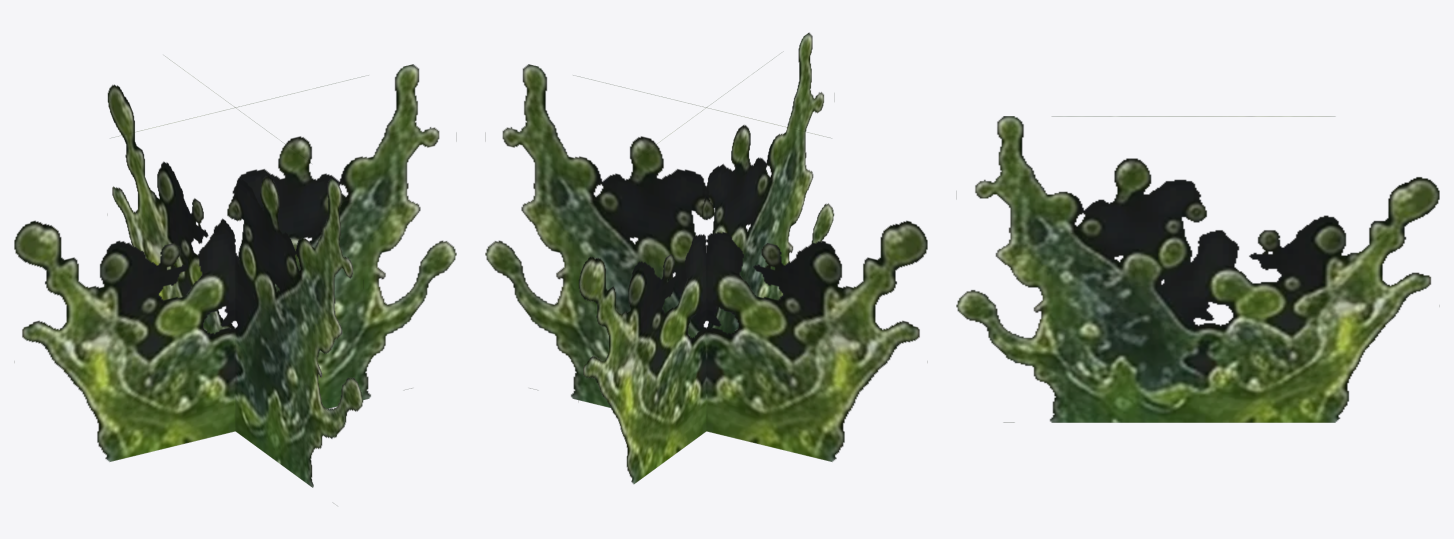
The model's file is acidsplash.glb.
3 renders of one model, left to right at view 1: azimuth 30°, elevation 25°; view 2: azimuth 150°, elevation 25°; view 3: azimuth 270°, elevation 25°, orthographic. The views are drawn at different scales.
Parts seen in each view (by area): view 1: geometry_0; view 2: geometry_0; view 3: geometry_0.
Part boxes in pixels (x1=…): geometry_0: x1=14, y1=56, x2=456, y2=487; geometry_0: x1=485, y1=32, x2=927, y2=484; geometry_0: x1=956, y1=116, x2=1439, y2=422.
Size of the model in its own units: 1 by 0.7 by 1.
Materials: 1 (1 with a texture image).
